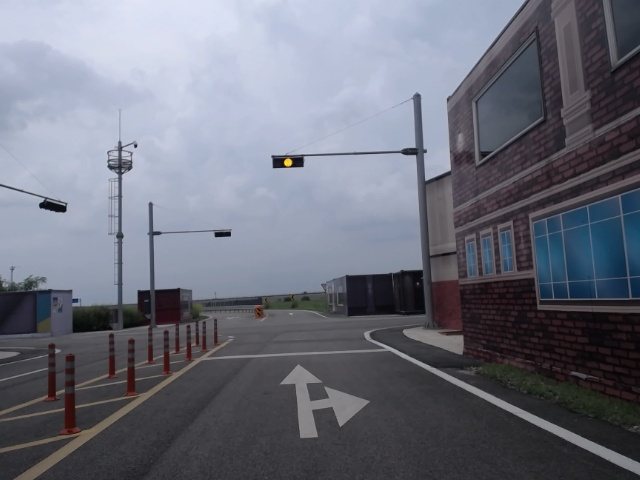orange_3: (272, 156, 303, 167)
